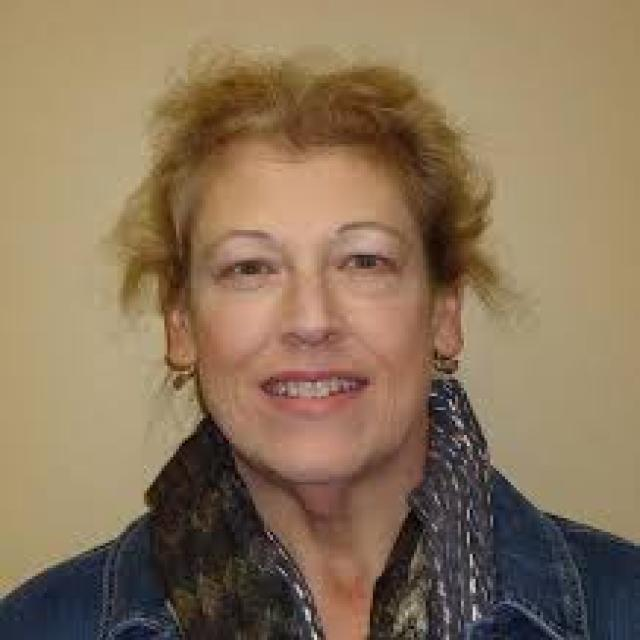normal_face: (153, 84, 469, 482)
